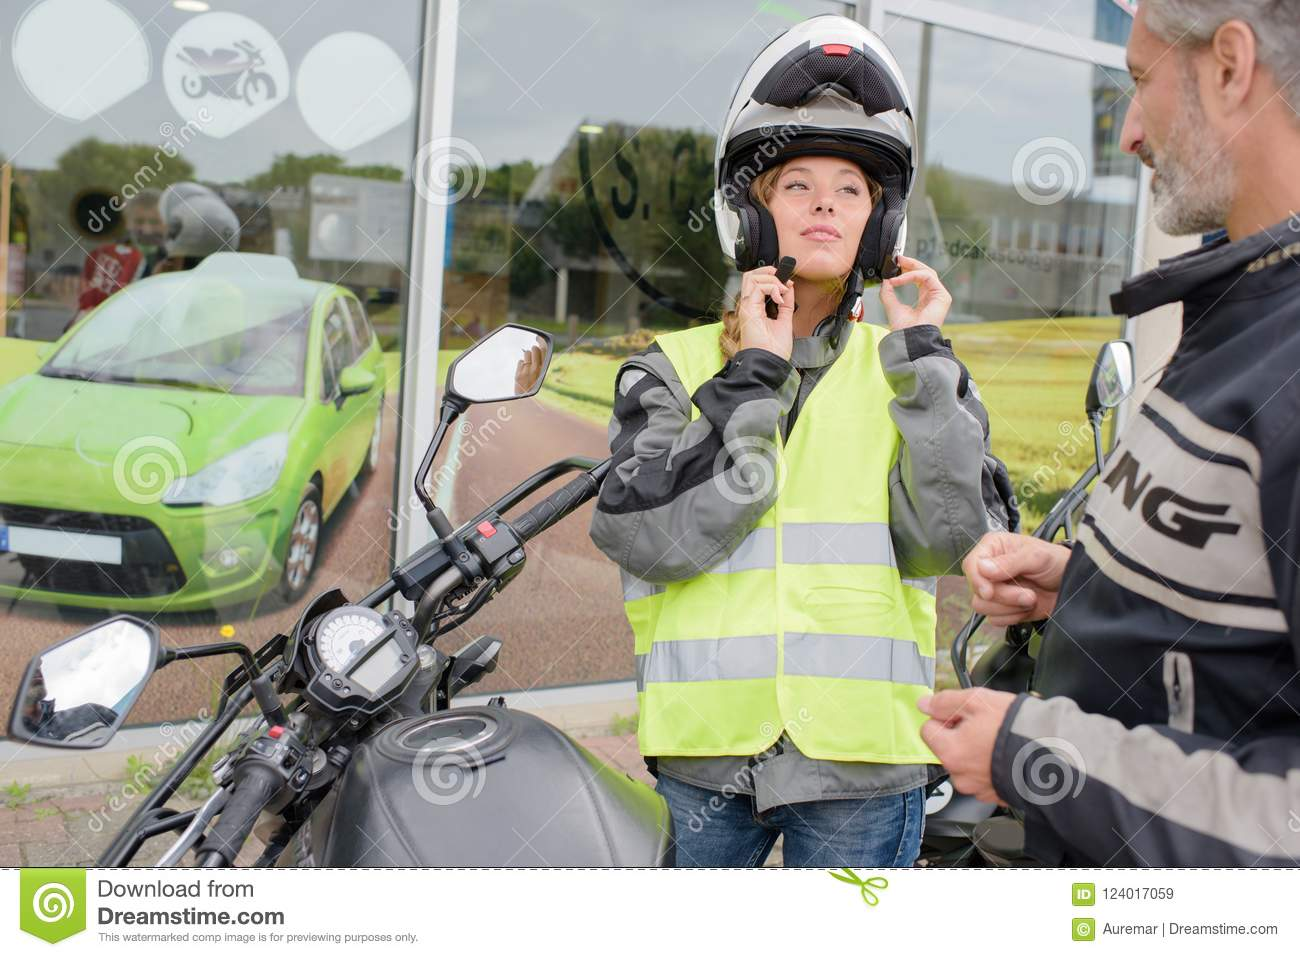helmet: (718, 52, 917, 265)
